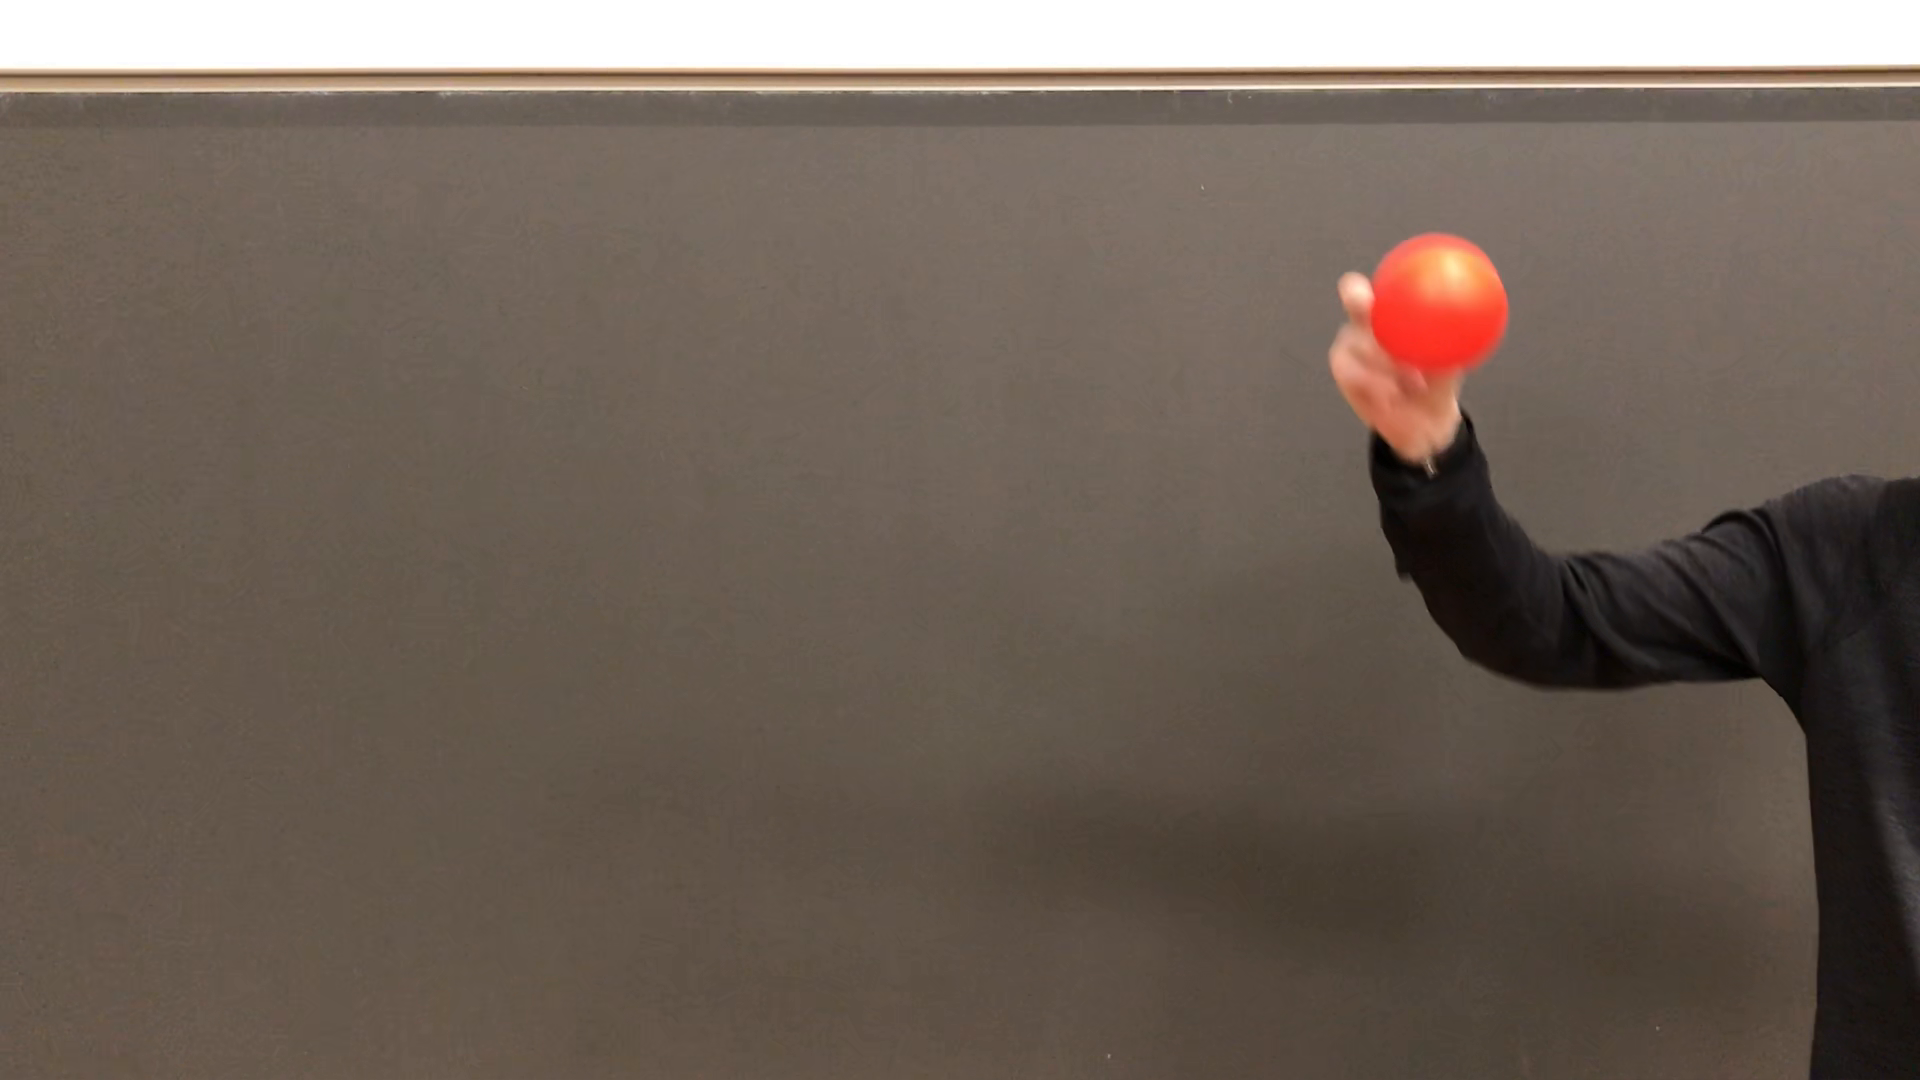Ball: (1369, 233, 1511, 369)
